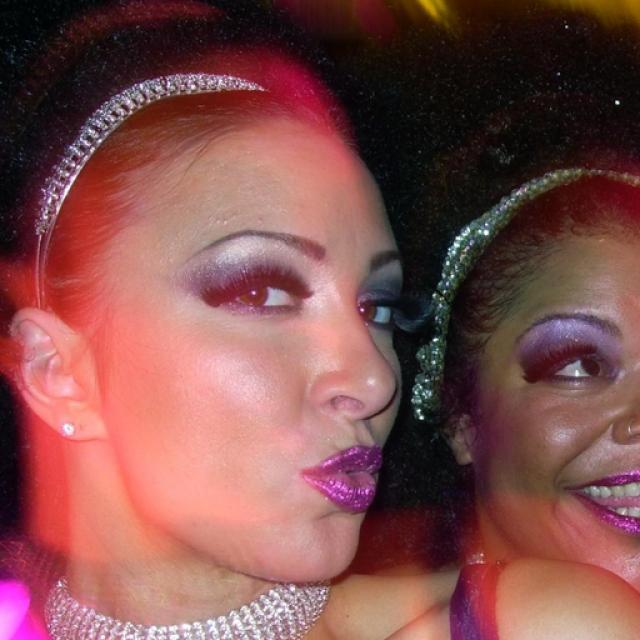neutral: (106, 111, 408, 586), (483, 223, 640, 589)
